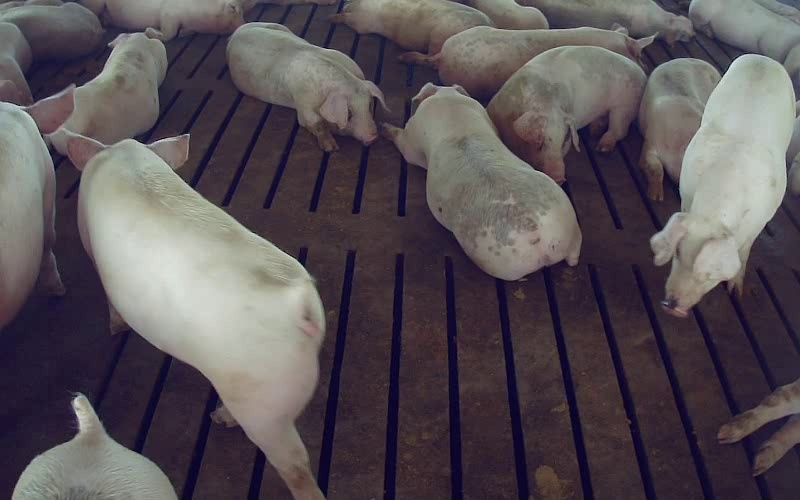pig: (68, 133, 324, 499), (384, 84, 581, 280), (651, 54, 794, 315), (488, 46, 646, 183), (226, 22, 387, 151), (0, 87, 73, 328), (429, 26, 653, 101), (64, 28, 167, 143), (639, 58, 720, 201), (331, 0, 492, 63), (78, 0, 256, 40), (689, 0, 799, 62), (0, 2, 102, 60)
